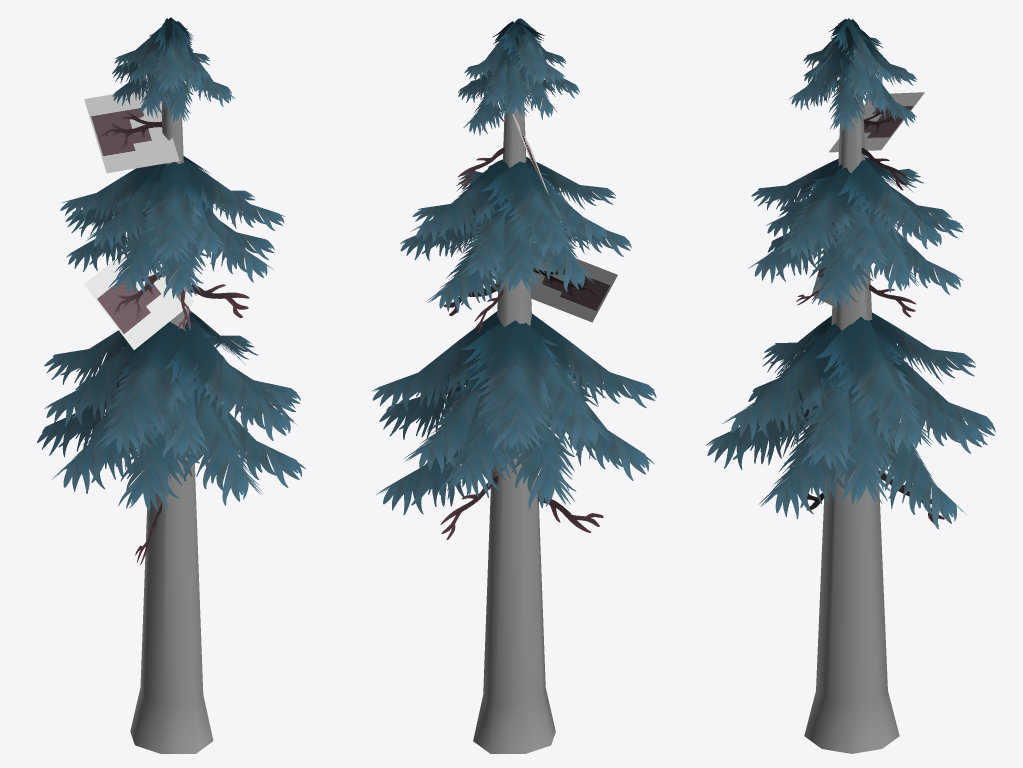
File: Arbol_gordo_2_Final.fbx
3 views of the same model, side by side, from view 1: azimuth 30°, elevation 25°; view 2: azimuth 150°, elevation 25°; view 3: azimuth 270°, elevation 25° (orthographic).
Parts seen in each view (by area): view 1: Hojas_arbol_gordo_2, Arbol_gordo_2_low, Rama_B_arbol_gordo_2, Rama_A_arbol_gordo_2; view 2: Hojas_arbol_gordo_2, Arbol_gordo_2_low, Rama_B_arbol_gordo_2, Rama_A_arbol_gordo_2; view 3: Hojas_arbol_gordo_2, Arbol_gordo_2_low, Rama_B_arbol_gordo_2, Rama_A_arbol_gordo_2.
Part boxes in pixels (x1,y1,x2,y2): Hojas_arbol_gordo_2: (37,17,305,511); Arbol_gordo_2_low: (130,95,213,753); Rama_B_arbol_gordo_2: (84,88,194,349); Rama_A_arbol_gordo_2: (135,284,249,564); Hojas_arbol_gordo_2: (372,18,656,514); Arbol_gordo_2_low: (473,100,555,753); Rama_B_arbol_gordo_2: (512,114,617,322); Rama_A_arbol_gordo_2: (440,147,603,539); Hojas_arbol_gordo_2: (706,18,995,529); Arbol_gordo_2_low: (804,50,899,753); Rama_B_arbol_gordo_2: (812,92,924,306); Rama_A_arbol_gordo_2: (796,148,944,525).
Bounding box in the file's own units: 15.12 × 38.95 × 15.52.
